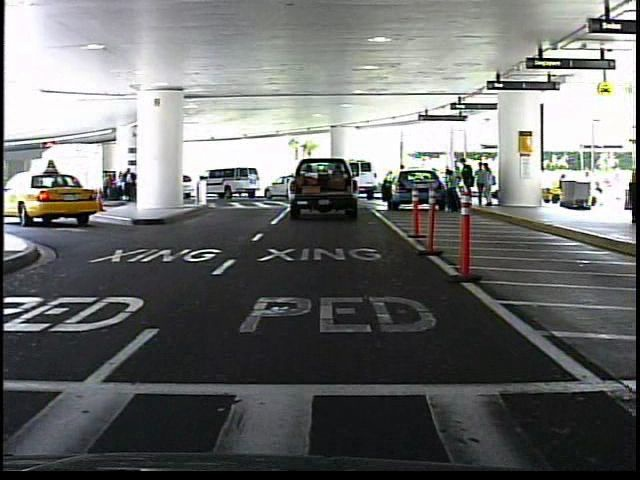person: (444, 167, 463, 216), (394, 160, 410, 201)
